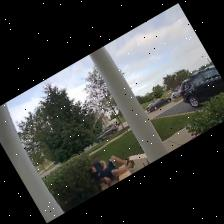person: (89, 156, 133, 183)
